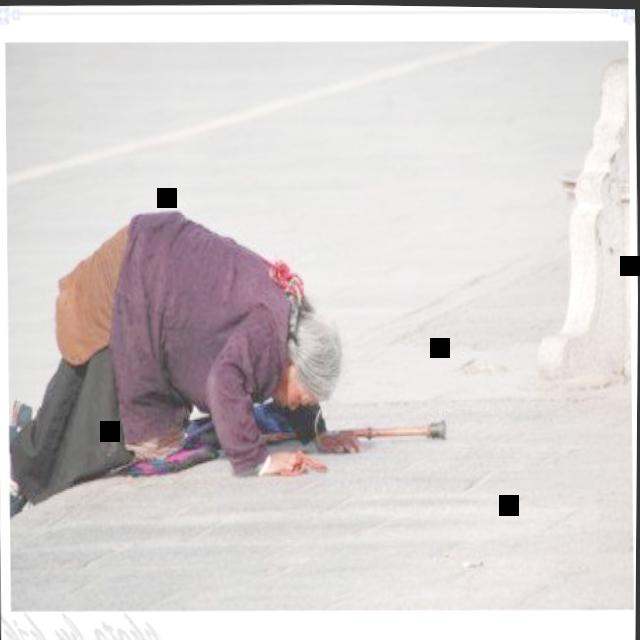Fall-Detected: (2, 204, 371, 527)
